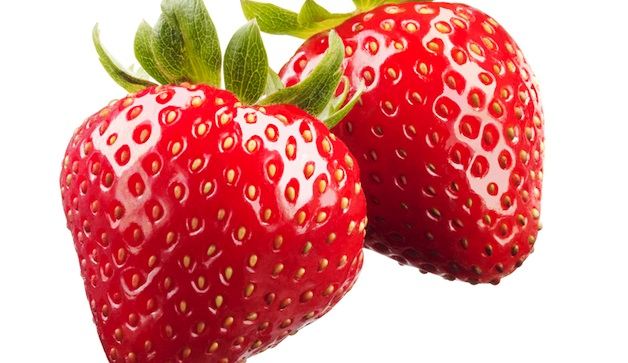strawberry: (56, 84, 358, 362), (300, 4, 556, 292)
